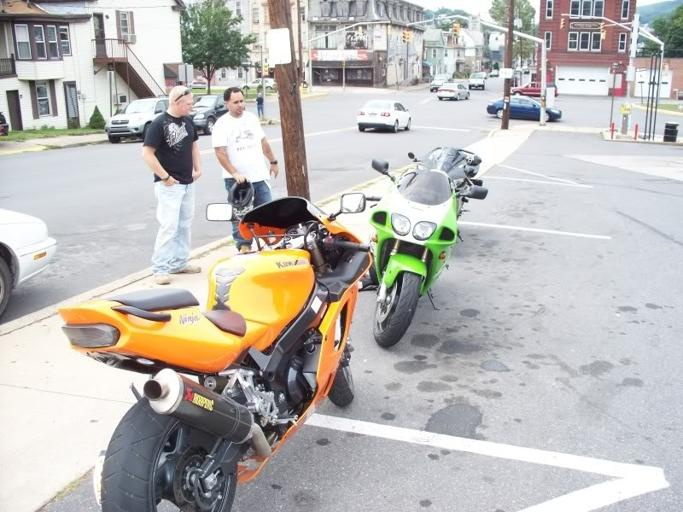non-vehicle: (55, 190, 372, 511), (366, 145, 490, 348)
